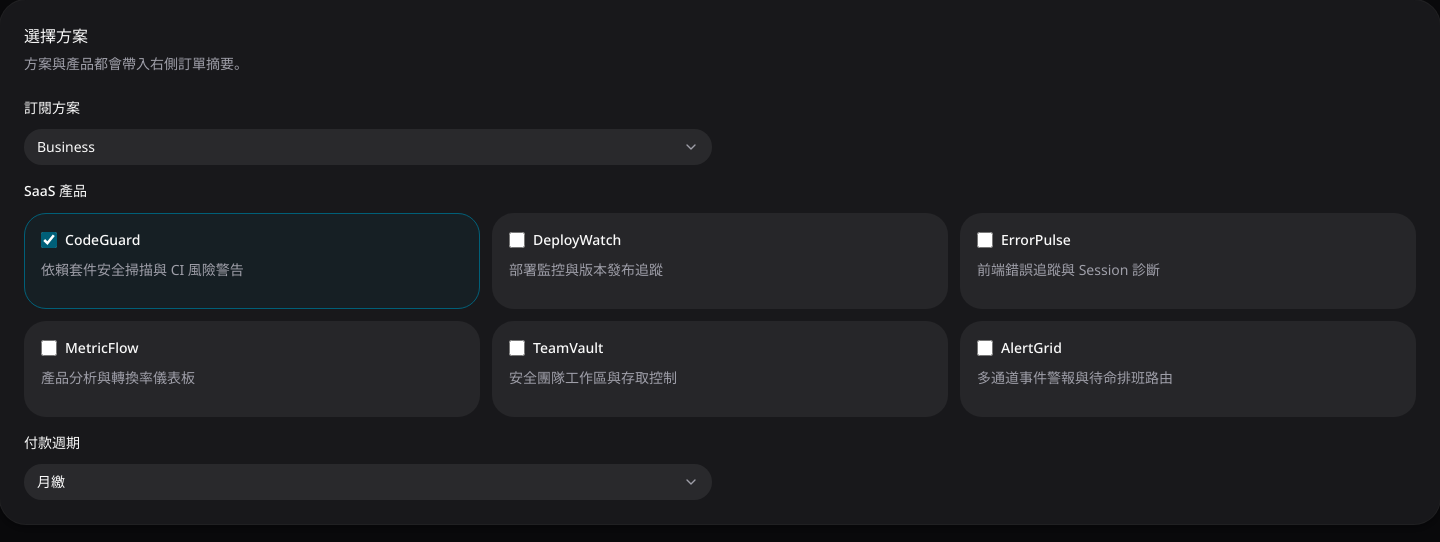
Test: 結帳方案選擇 › 結帳方案不顯示 Enterprise
The width and height of the screenshot is (1440, 542).
Press the mouse on the dropdown named "訂閱方案": (66, 147) [24,129,712,165]
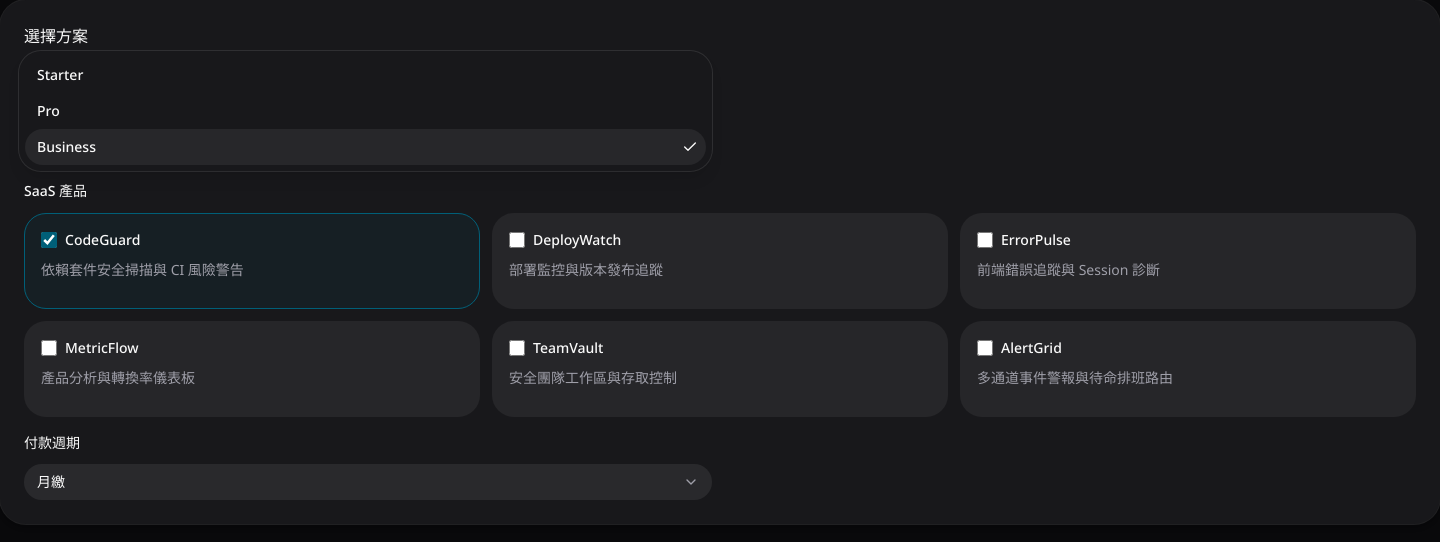
Now the option "Starter" is shown, box [37,65,83,84]
